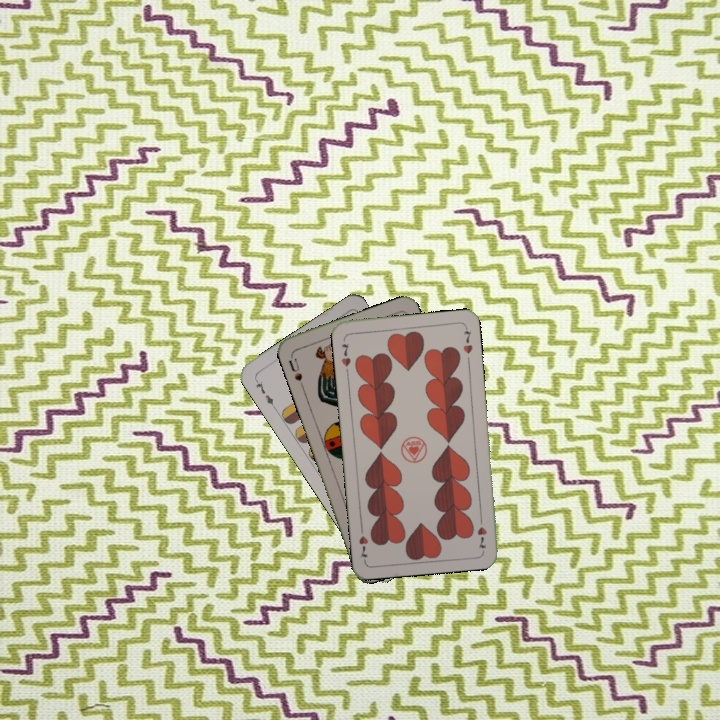E7: (251, 375, 278, 411)
H7: (473, 512, 489, 553), (337, 340, 353, 375)
SU: (284, 354, 306, 390)
